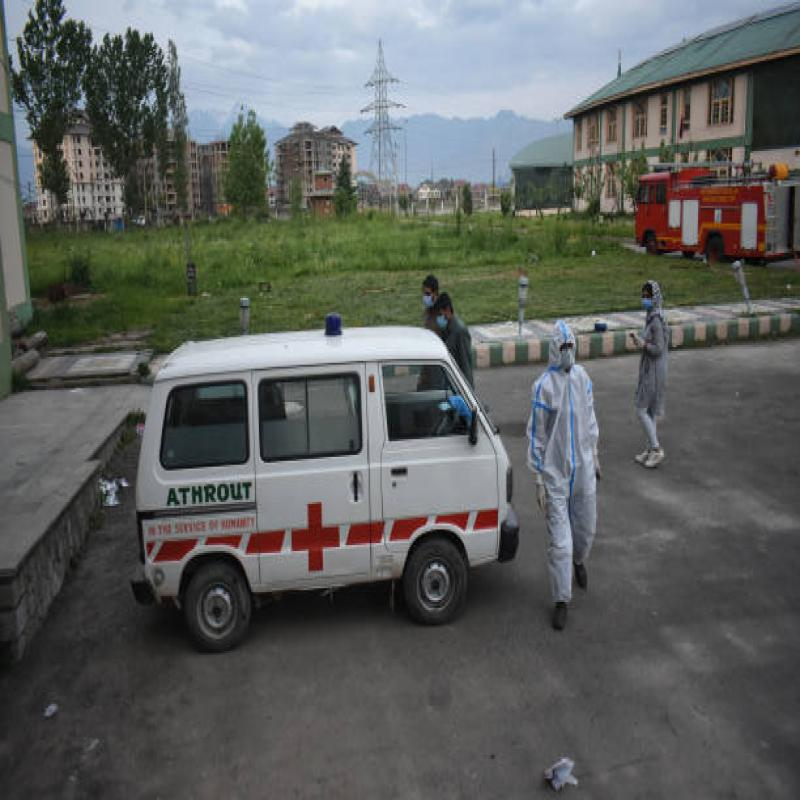AmbulanceSiren: (314, 304, 350, 339)
ambulance: (144, 342, 501, 630)
